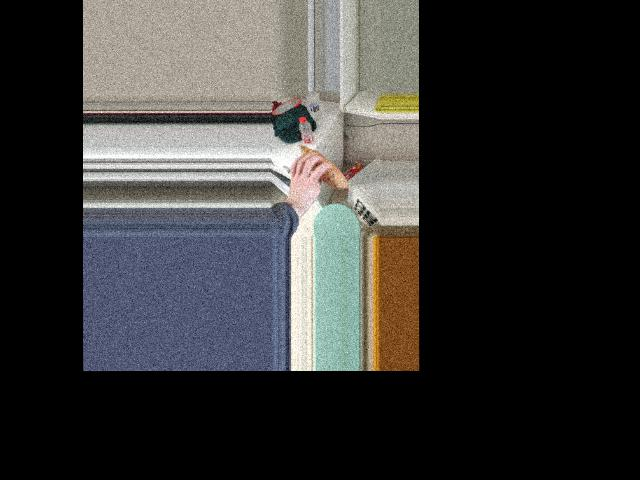sweet_potato: (295, 146, 345, 188)
